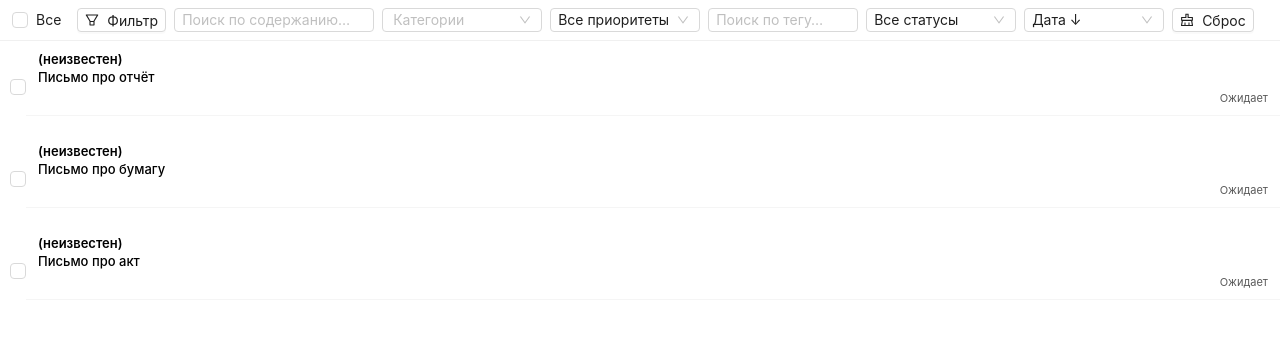
Test: EmailList: выбор и полоса массовых действий › «Выбрано: N» показывает ровно столько писем, сколько отмечено
This screenshot has width=1280, height=342.
Click the checkbox named "Выбрать письмо: Письмо про отчёт" at (18, 87), box [10,76,26,98]
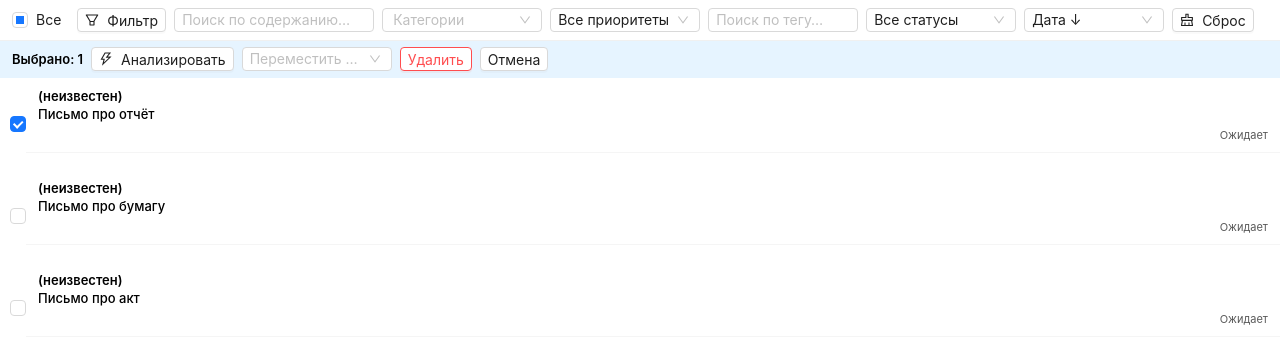
Click the checkbox named "Выбрать письмо: Письмо про бумагу" at (18, 216), box [10,205,26,227]
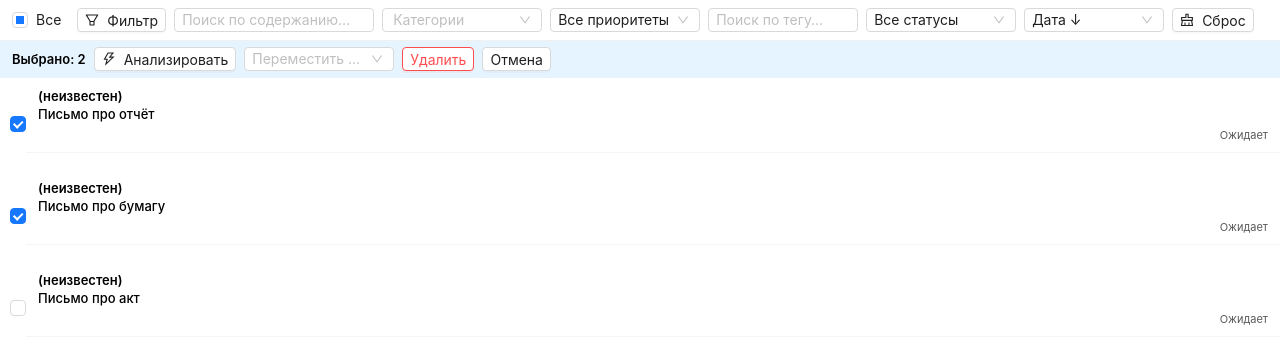
Expected: the text "Выбрано: 2" is shown, [12,51,86,67]
